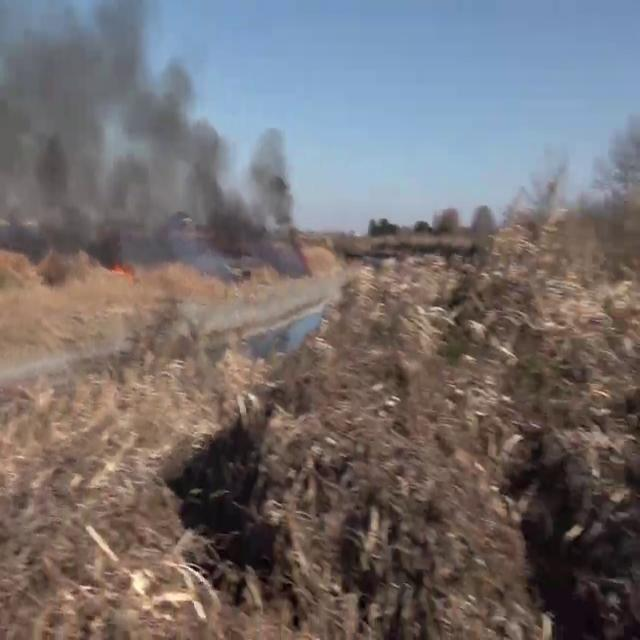Smoke: (0, 0, 310, 268), (506, 88, 640, 244)
